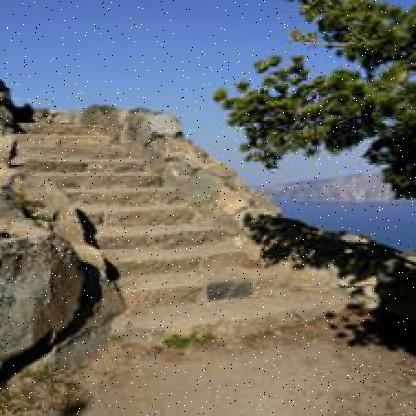stair_up: (20, 119, 317, 335)
